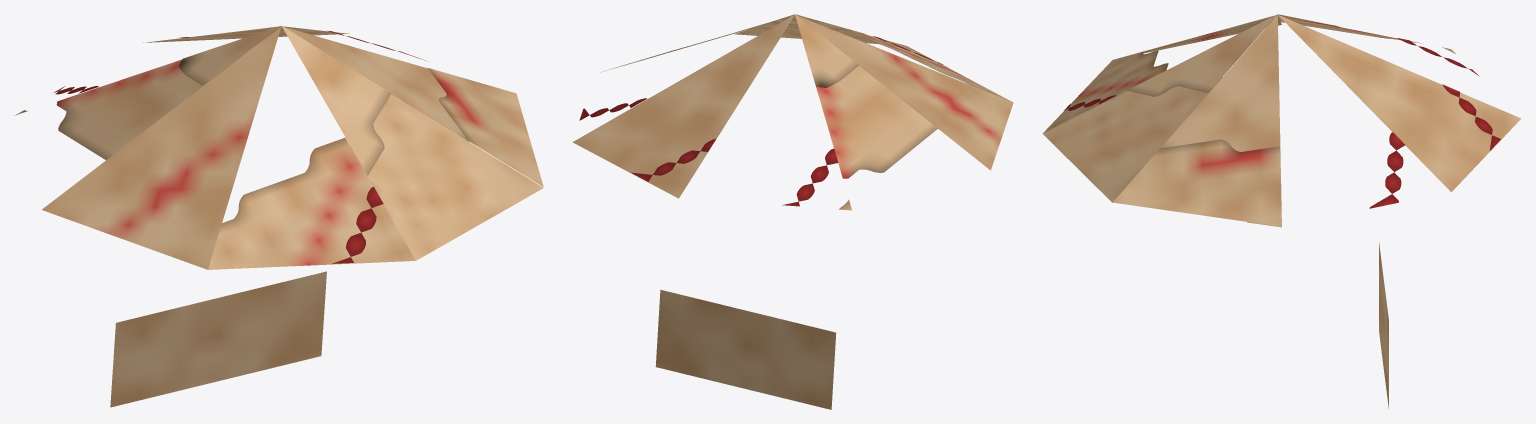
File: vietnamese_basic_h.obj
3 renders of one model, left to right at view 1: azimuth 30°, elevation 25°; view 2: azimuth 150°, elevation 25°; view 3: azimuth 270°, elevation 25°, orthographic. The views are drawn at different scales.
Parts seen in each view (by area): view 1: plane; view 2: plane; view 3: plane.
Part boxes in pixels (bbox=[...]): plane: bbox=[14, 25, 543, 407]; plane: bbox=[572, 14, 1013, 409]; plane: bbox=[1042, 14, 1521, 408].
Bounding box in the file's own units: 1.22 × 0.985 × 1.22.
